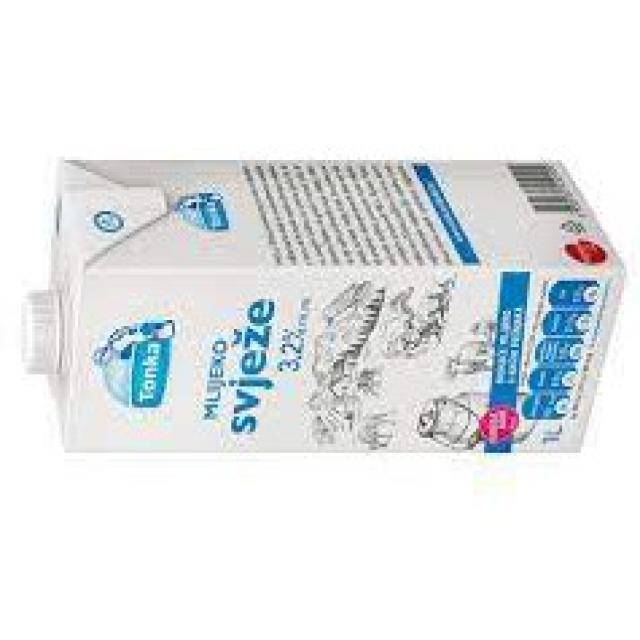non_white_jug: (15, 151, 627, 459)
